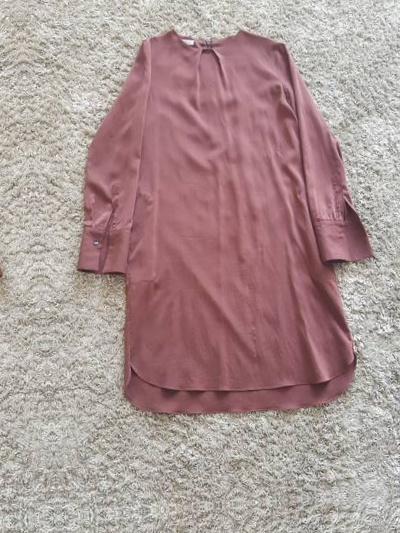Dress: (46, 0, 400, 438), (0, 20, 26, 468)
